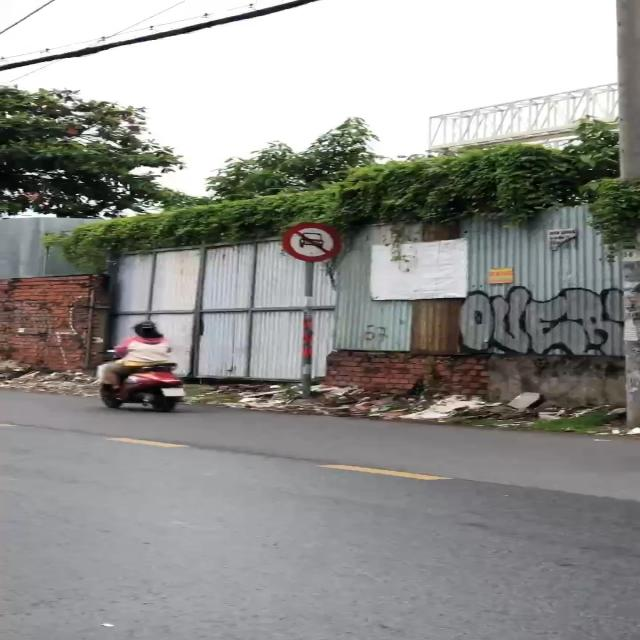Bien bao cam xe oto: (278, 221, 344, 262)
